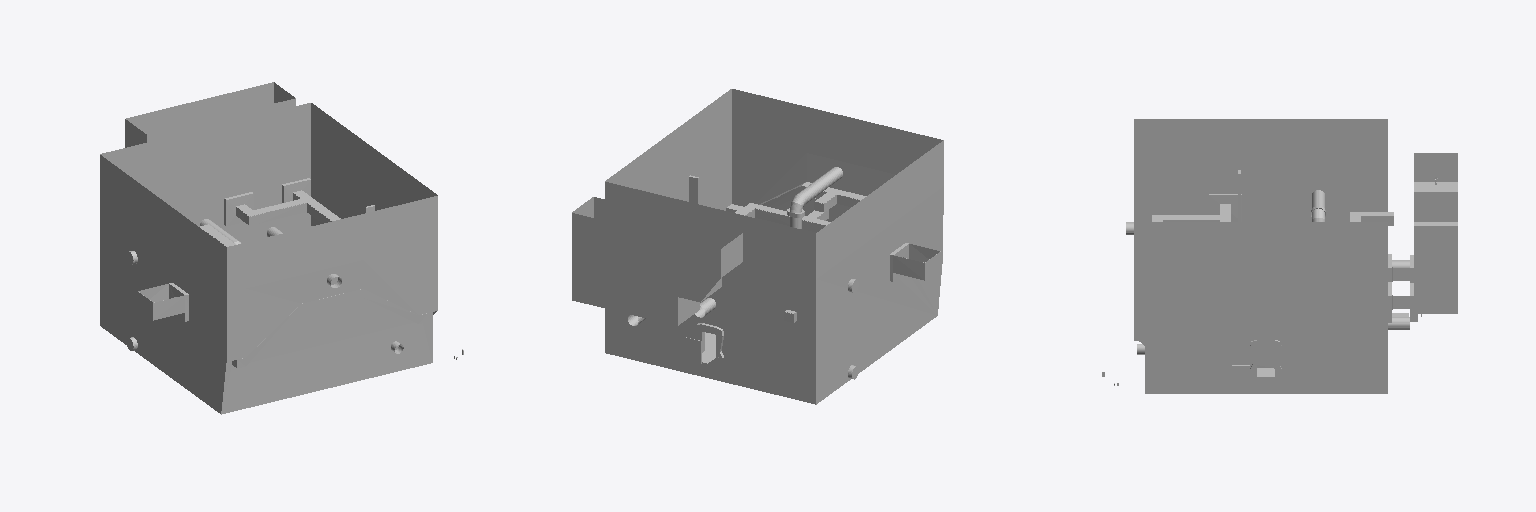
File: JSch_Level_1_Build.obj
The picture shows the model from 3 angles: view 1: azimuth 30°, elevation 25°; view 2: azimuth 150°, elevation 25°; view 3: azimuth 270°, elevation 25°; orthographic projection.
Parts seen in each view (by area): view 1: Floor_Cube.014, Vents_Cube.013, Jump_Room_Cube.018, Vent_Covers_Cube.016, Pipes_East_Cylinder.002; view 2: Floor_Cube.014, Jump_Room_Cube.018, Vents_Cube.013, Pipe_West_Cylinder, Vent_Covers_Cube.016, Pipes_East_Cylinder.002; view 3: Floor_Cube.014, Jump_Room_Cube.018, Vents_Cube.013, Vent_Covers_Cube.016, Pipes_East_Cylinder.002.
Boxes of the visible parts, <box> form: Floor_Cube.014: <box>100,103,437,414</box>; Vents_Cube.013: <box>138,178,426,368</box>; Jump_Room_Cube.018: <box>125,82,295,147</box>; Vent_Covers_Cube.016: <box>200,190,340,246</box>; Pipes_East_Cylinder.002: <box>127,219,282,350</box>; Floor_Cube.014: <box>605,89,943,404</box>; Jump_Room_Cube.018: <box>572,197,742,325</box>; Vents_Cube.013: <box>689,175,940,322</box>; Pipe_West_Cylinder: <box>787,167,842,228</box>; Vent_Covers_Cube.016: <box>735,182,866,313</box>; Pipes_East_Cylinder.002: <box>628,279,858,379</box>; Floor_Cube.014: <box>1134,119,1387,393</box>; Jump_Room_Cube.018: <box>1393,153,1457,321</box>; Vents_Cube.013: <box>1134,170,1393,340</box>; Vent_Covers_Cube.016: <box>1152,204,1393,221</box>; Pipes_East_Cylinder.002: <box>1311,190,1409,329</box>.
Bounding box in the file's own units: 19.74 × 11.97 × 22.15.